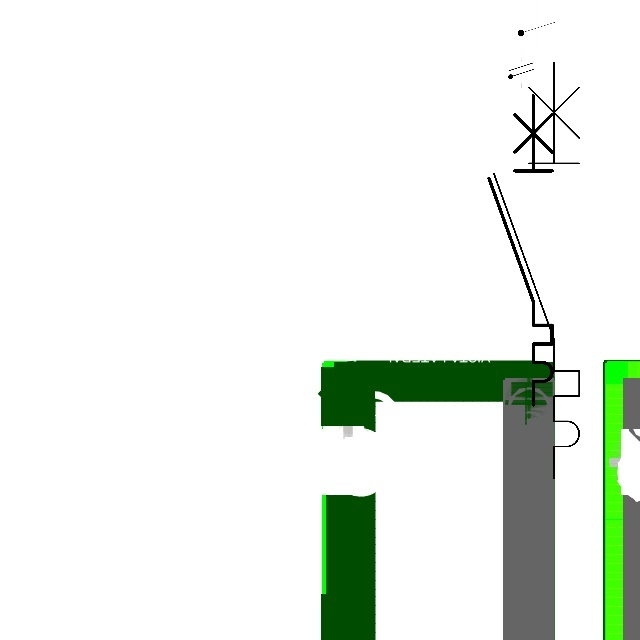interruptor_termomagnetico: (483, 51, 590, 488), (481, 87, 560, 412)
